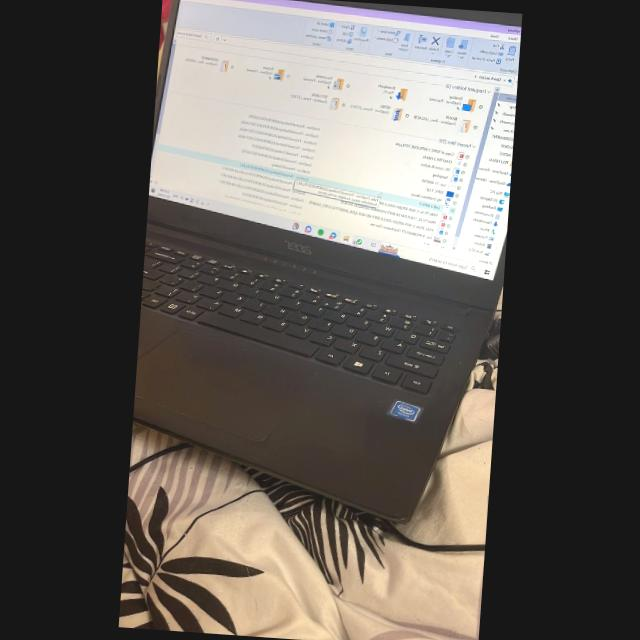laptop: (133, 0, 522, 523)
